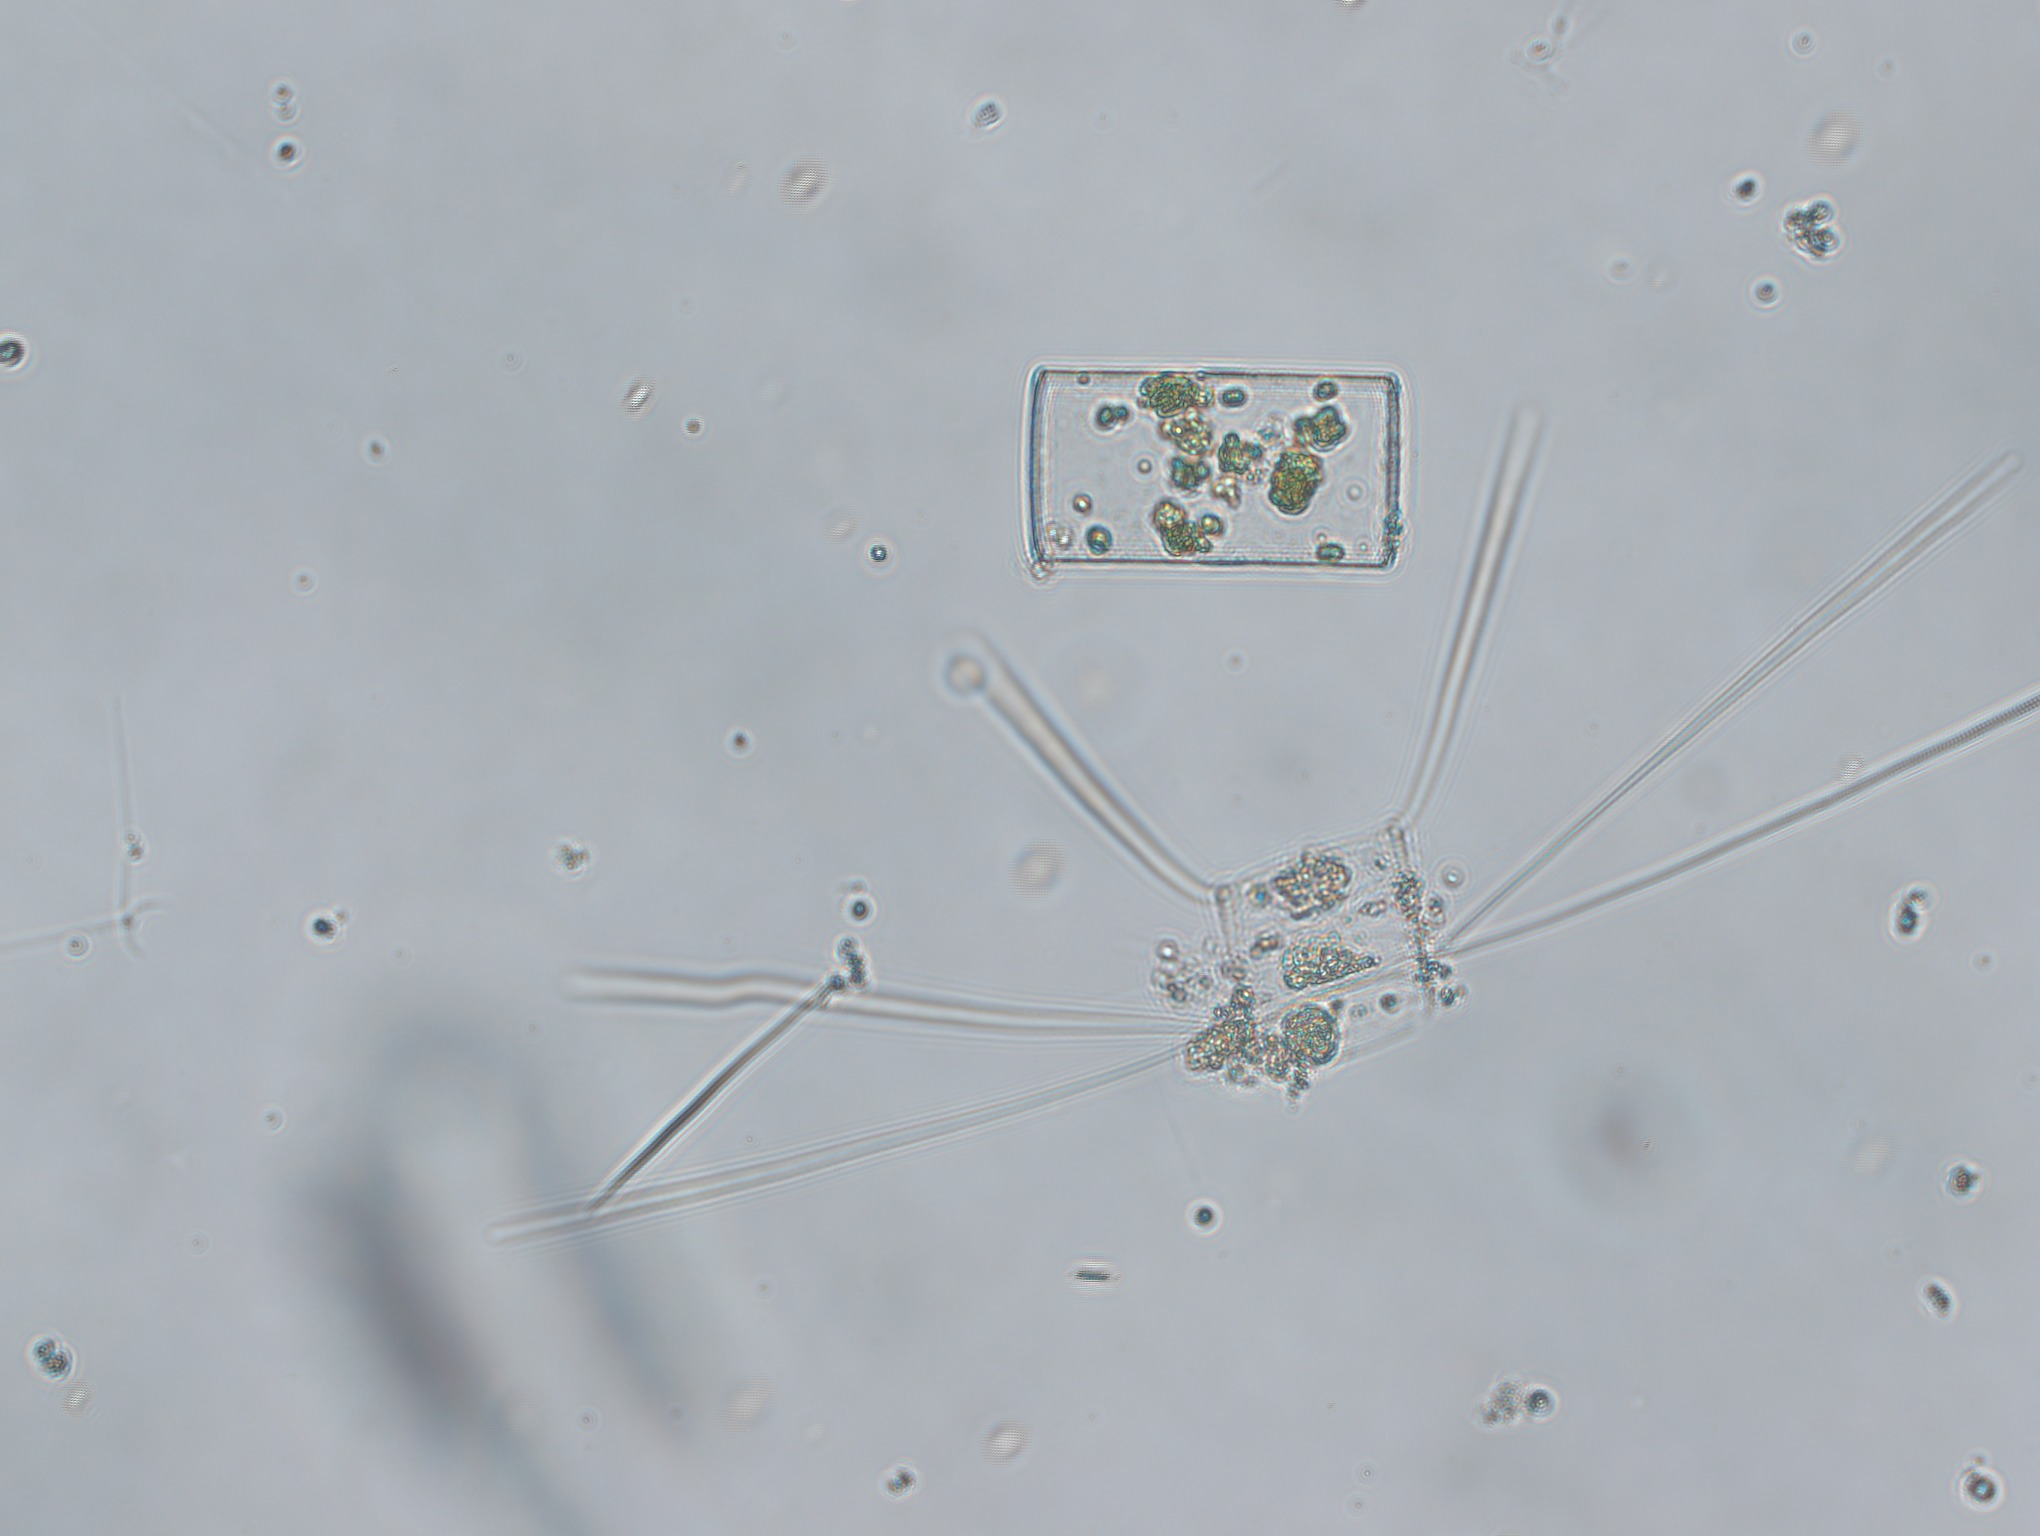chaetoceros: (574, 440, 2040, 1226)
guinardia flaccida: (1006, 349, 1424, 594)
